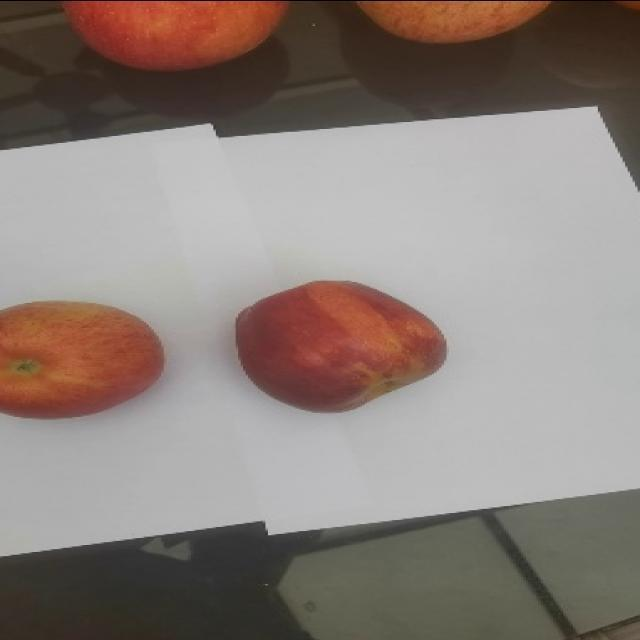Apple: (234, 278, 447, 413), (0, 299, 164, 419), (60, 0, 289, 72), (355, 0, 551, 44)
